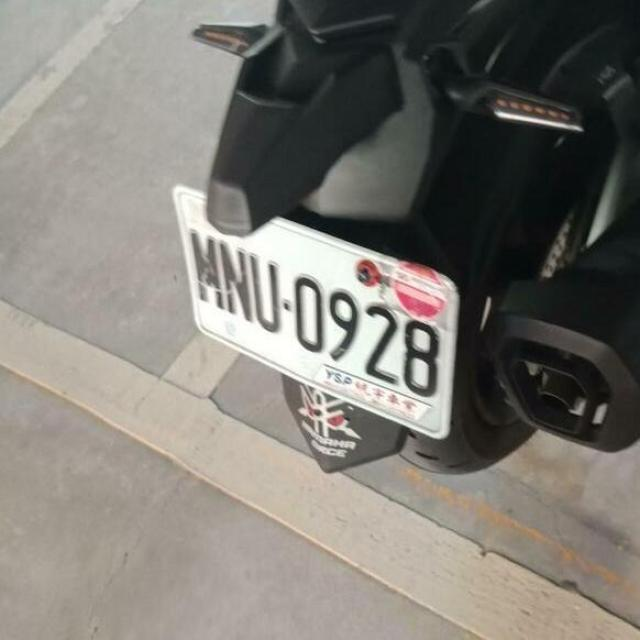W: (157, 177, 482, 453)
